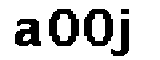0: (45, 5, 81, 48), (82, 7, 115, 48)
a: (12, 16, 44, 50)
j: (112, 6, 139, 59)
